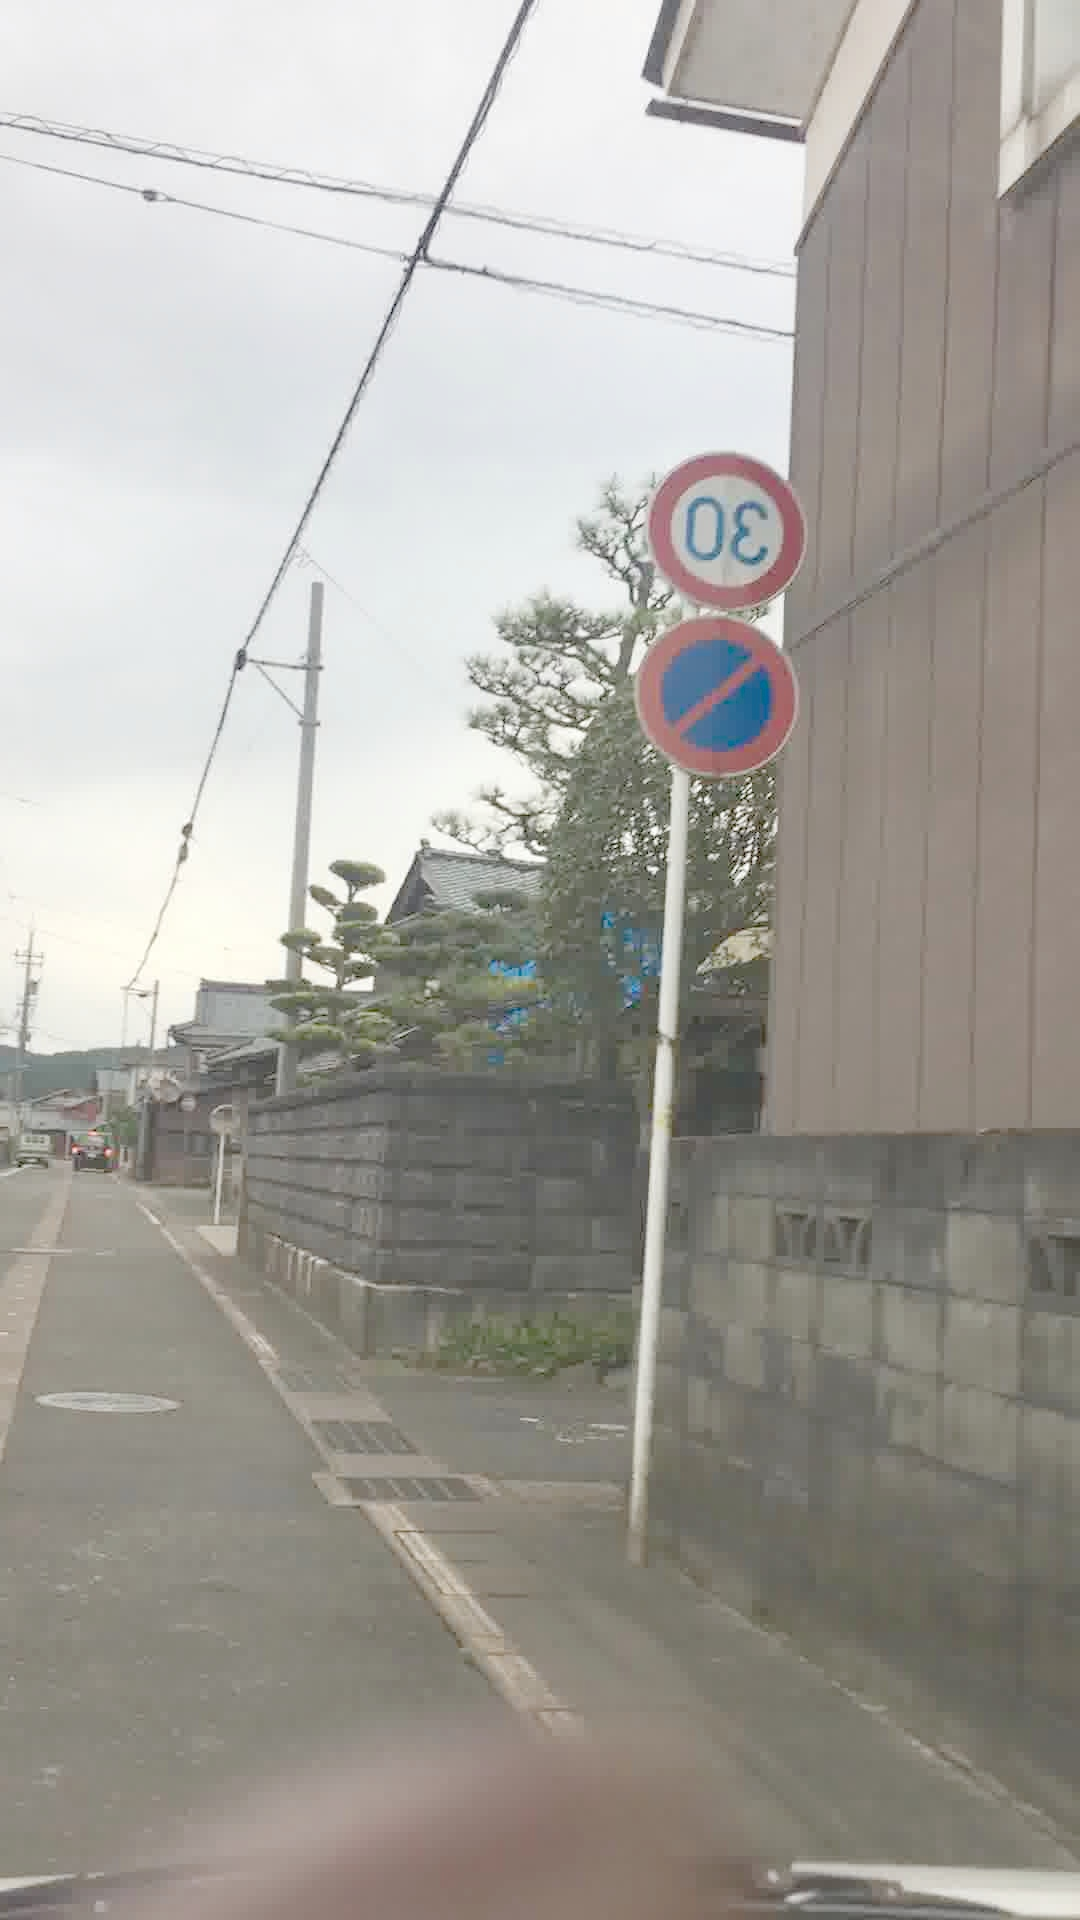Prohibition_sign: (646, 618, 804, 771)
Speed_sign: (655, 440, 810, 632)
